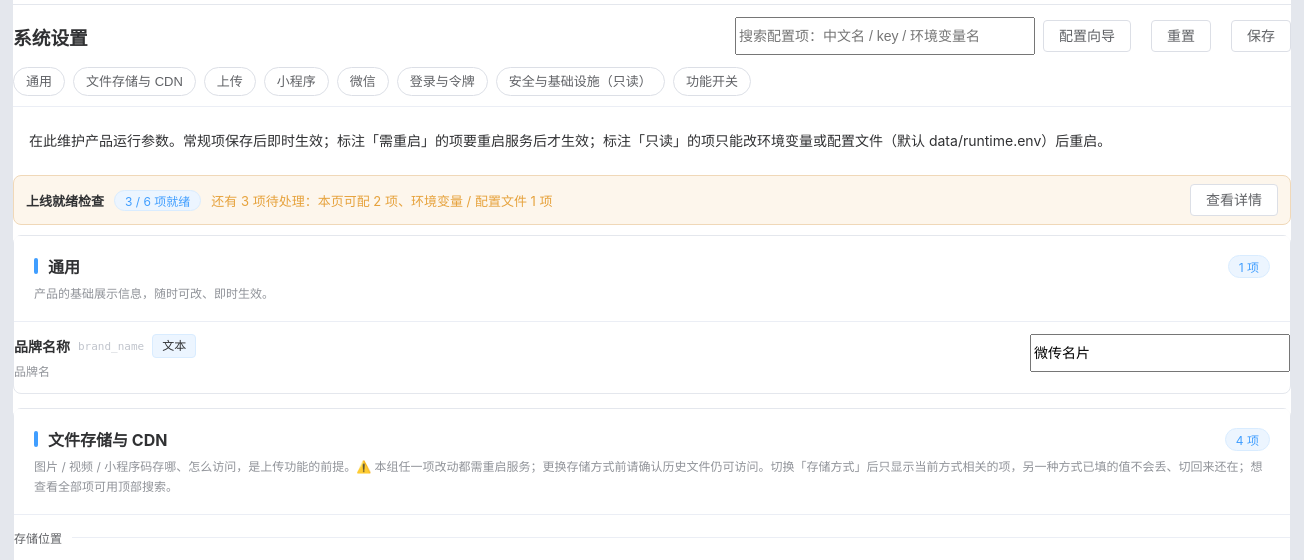
Test: Settings 系统设置 › 就绪清单按存储方式驱动感知：local 无文件访问基址项，minio 出现且未配则不就绪
The image size is (1304, 560).
Click the button with class "ready-bar-toggle" at (1234, 200), box top-left (1190, 184), bottom-right (1278, 216)
(page scrolled)
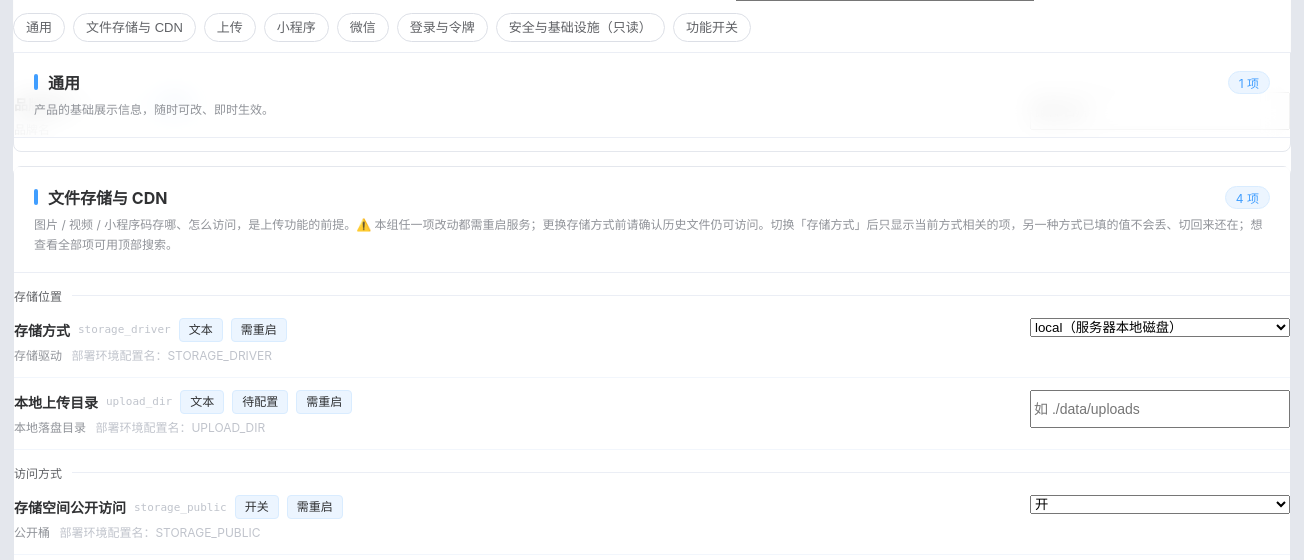
Expected: the element showing "存储方式 storage_driver 文本 需重启 存储驱动 部署环境配置名：STORAGE_DRIVER" is shown, top-left (14, 306), bottom-right (1290, 378)
切 minio：基址项出现（未配 → 不就绪）
Select "minio（MinIO / 自建 S3 兼容服务）" in the 1st dropdown at (1160, 327), box top-left (1030, 318), bottom-right (1290, 337)
(page scrolled)
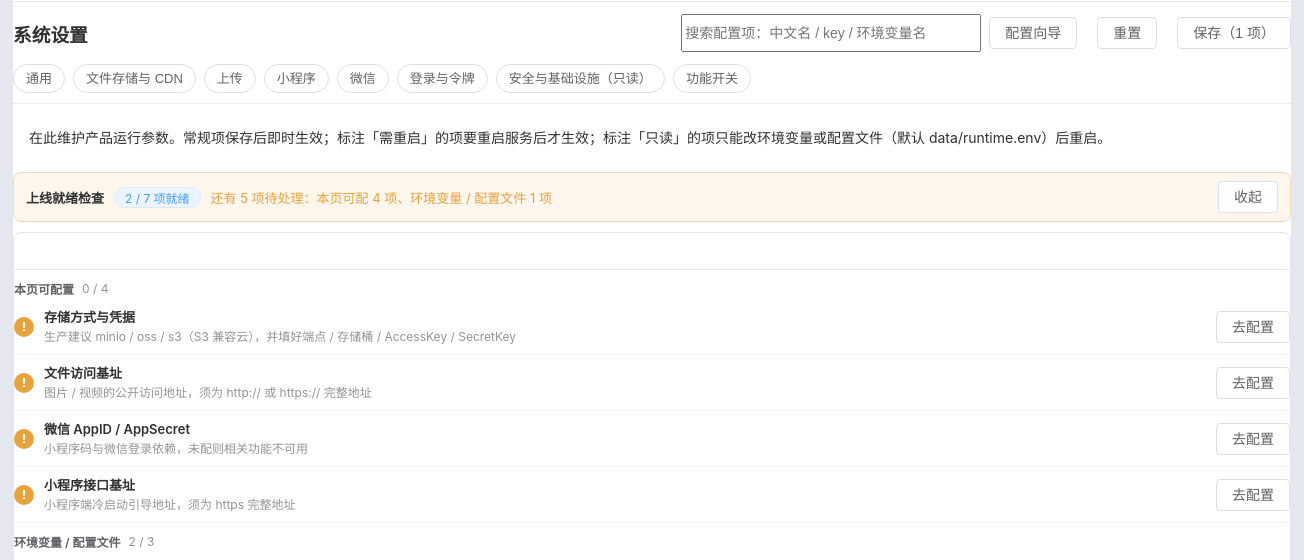
Result: the element with class "ready-row" shows "端点 / 存储桶 / AccessKey / SecretKey" at top-left (44, 329), bottom-right (516, 344)
